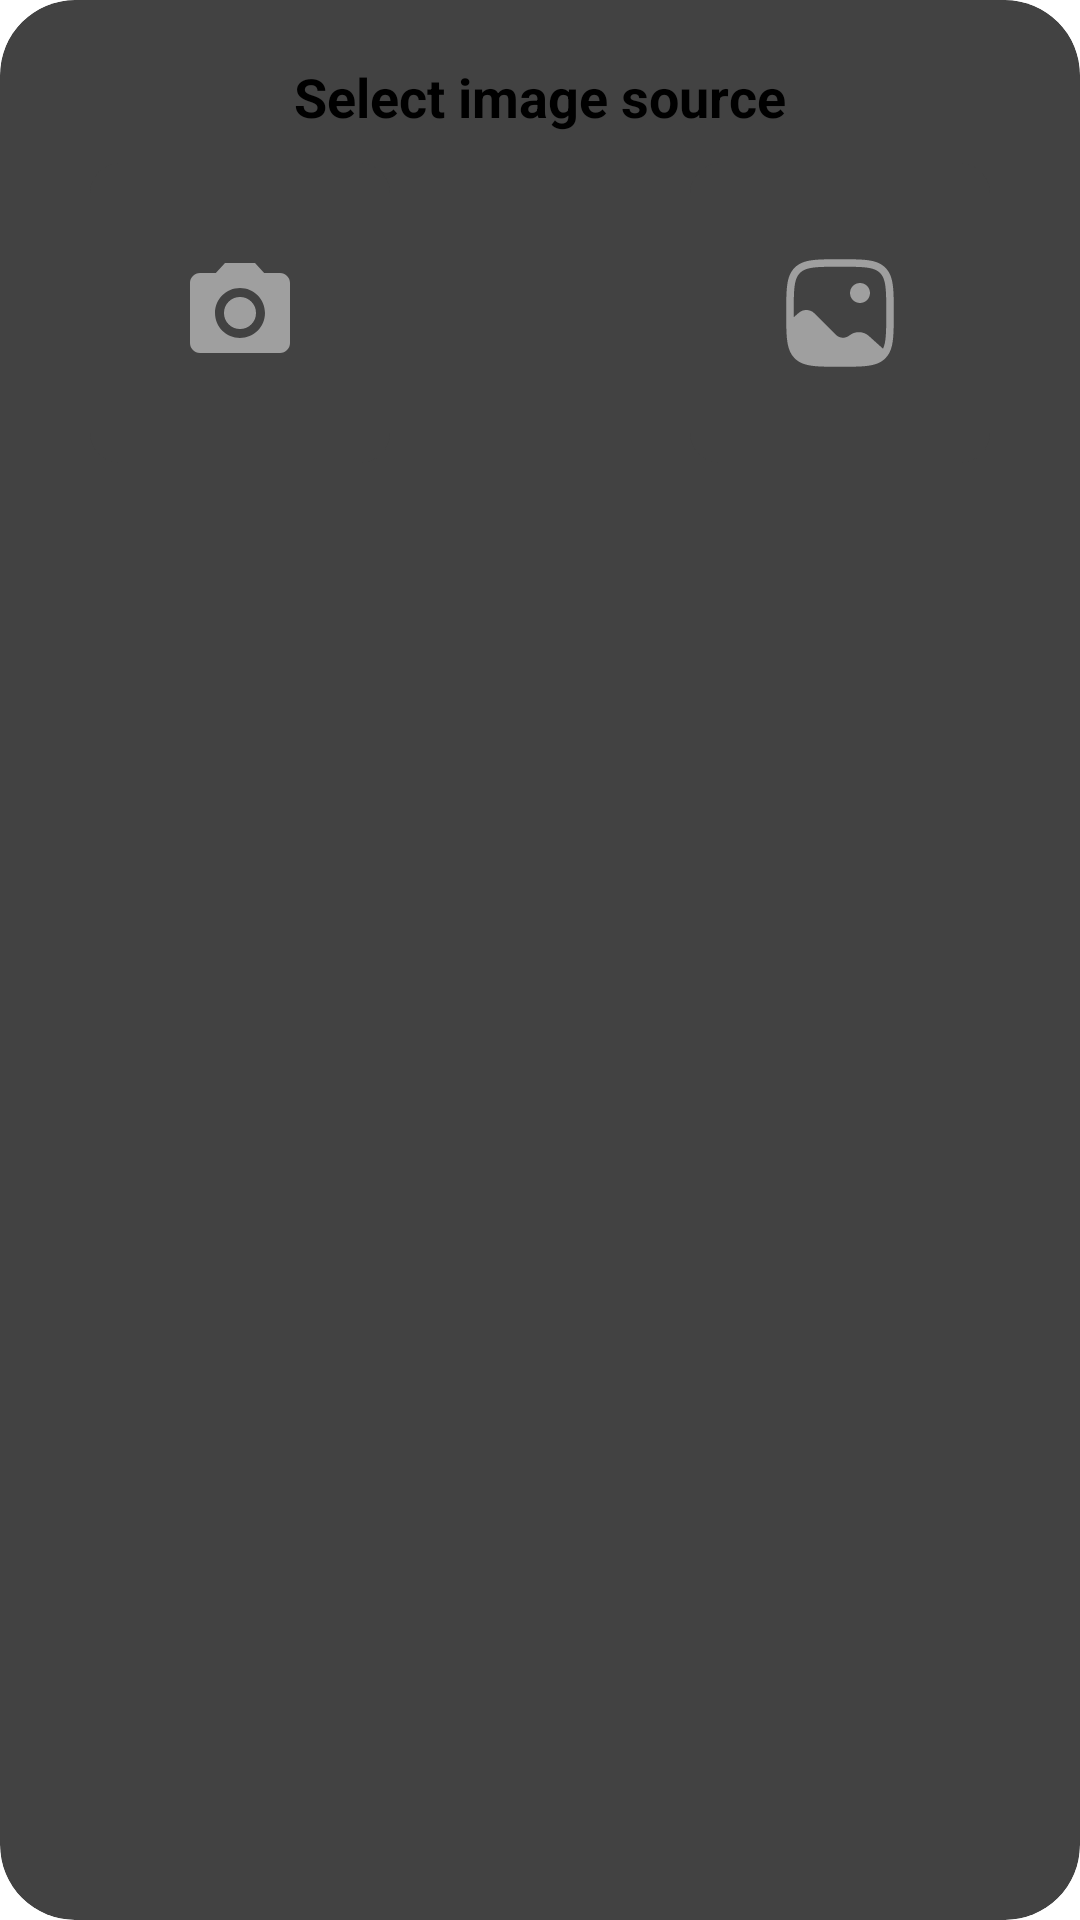

Icons on this 1080*1920 Android screen, each with the point to tap as (x,y):
camera: (240,308)
gallery: (840,313)
